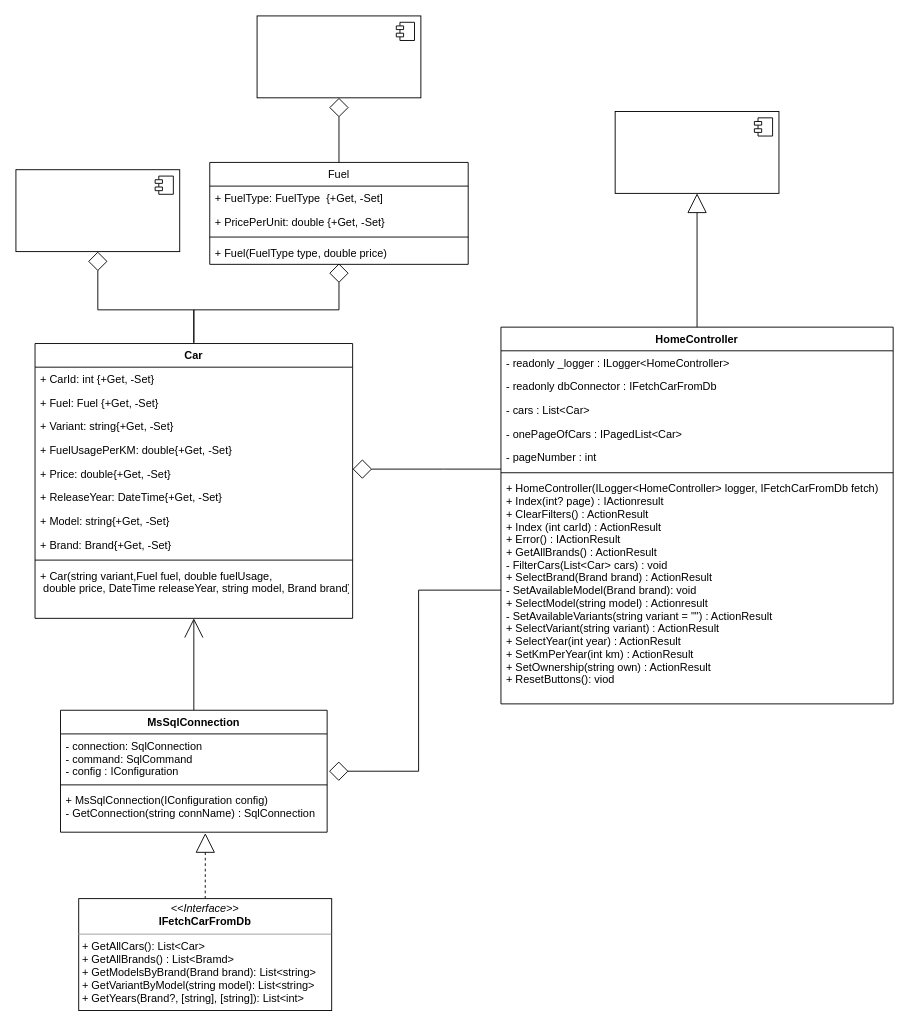
The diagram is 909 pixels wide and 1026 high, and some of its shapes have lost their labels. Each missing label, with the box of its shape:
<<Class>> Controller: (614, 111, 779, 193)
«Enum» Brand: (15, 169, 180, 252)
«Enum» FuelType: (256, 15, 421, 98)
